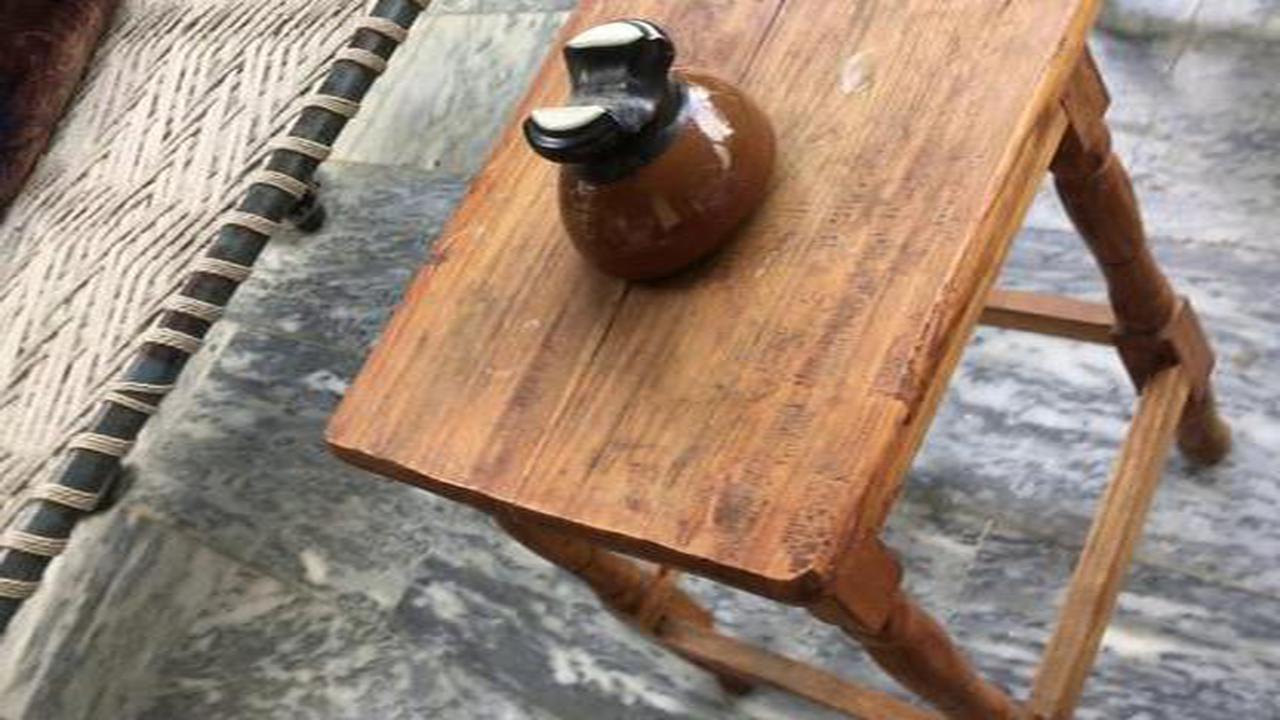insulator_pin: (508, 18, 797, 309)
